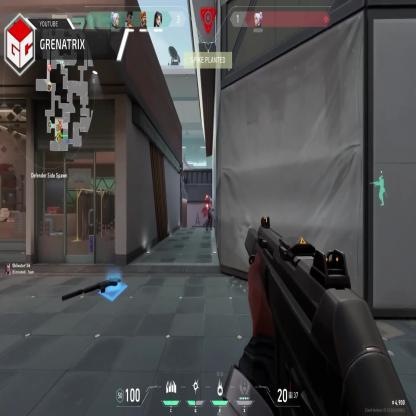enemy: (205, 194, 214, 233)
enemy_head: (209, 198, 212, 204)
